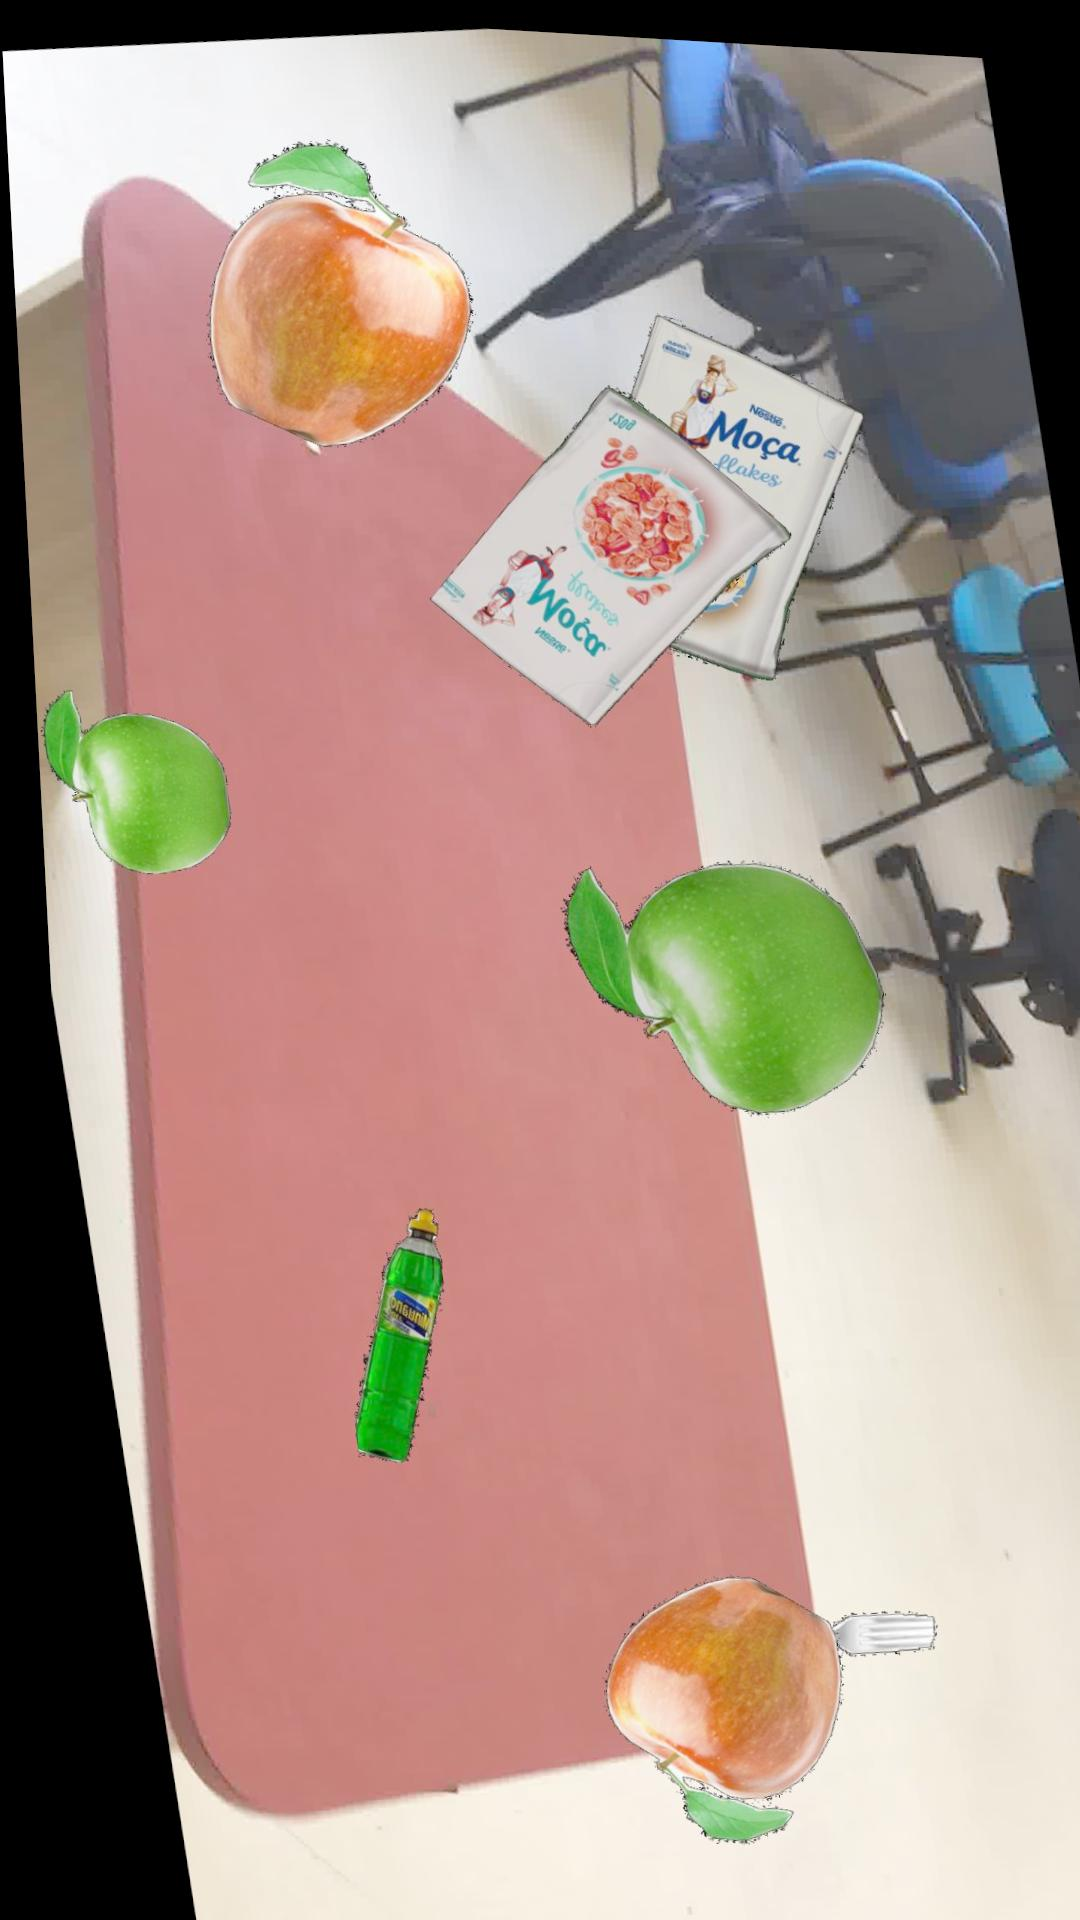apple: (204, 140, 469, 444), (585, 1571, 823, 1837)
cleaner: (338, 1205, 429, 1460)
corn flakes: (422, 380, 785, 720), (626, 309, 858, 673)
fork: (814, 1605, 918, 1648)
green apple: (551, 856, 873, 1108), (32, 691, 222, 874)
